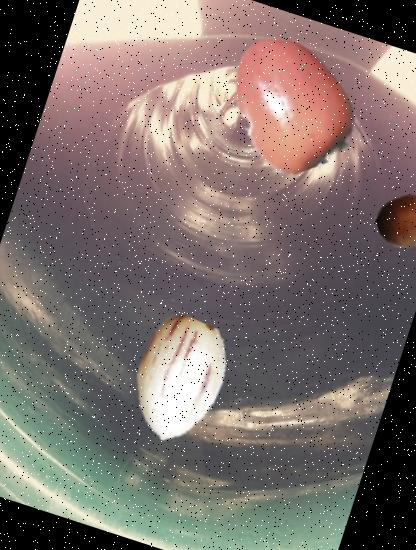Kaki: (204, 12, 382, 190)
Nut: (370, 188, 416, 256)
Pepino: (100, 302, 256, 458)
